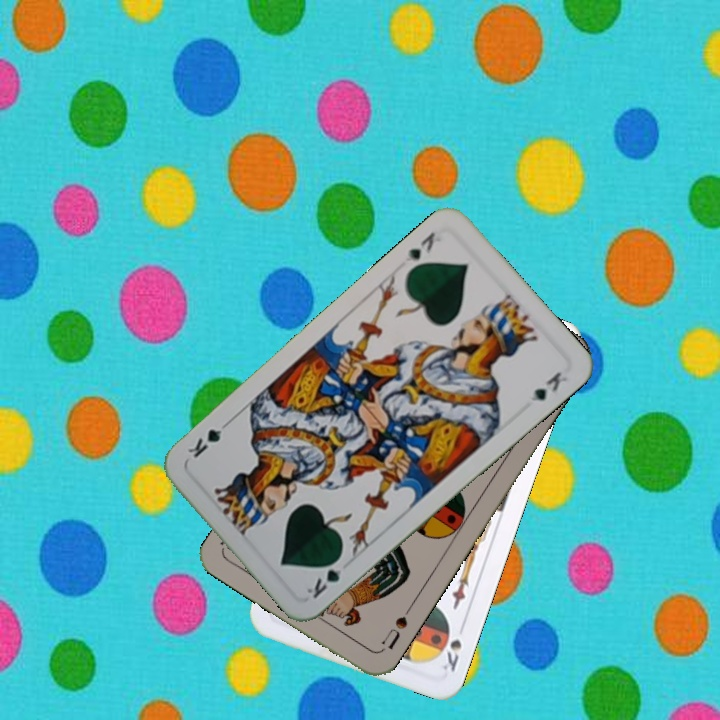GK: (302, 551, 346, 602), (401, 228, 444, 266)
SK: (436, 620, 465, 675)
SU: (377, 601, 415, 652)
